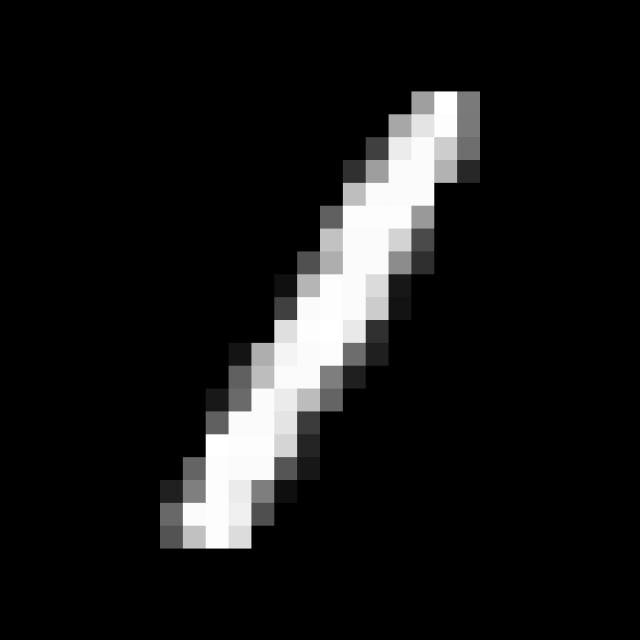one -1-: (151, 68, 500, 580)
